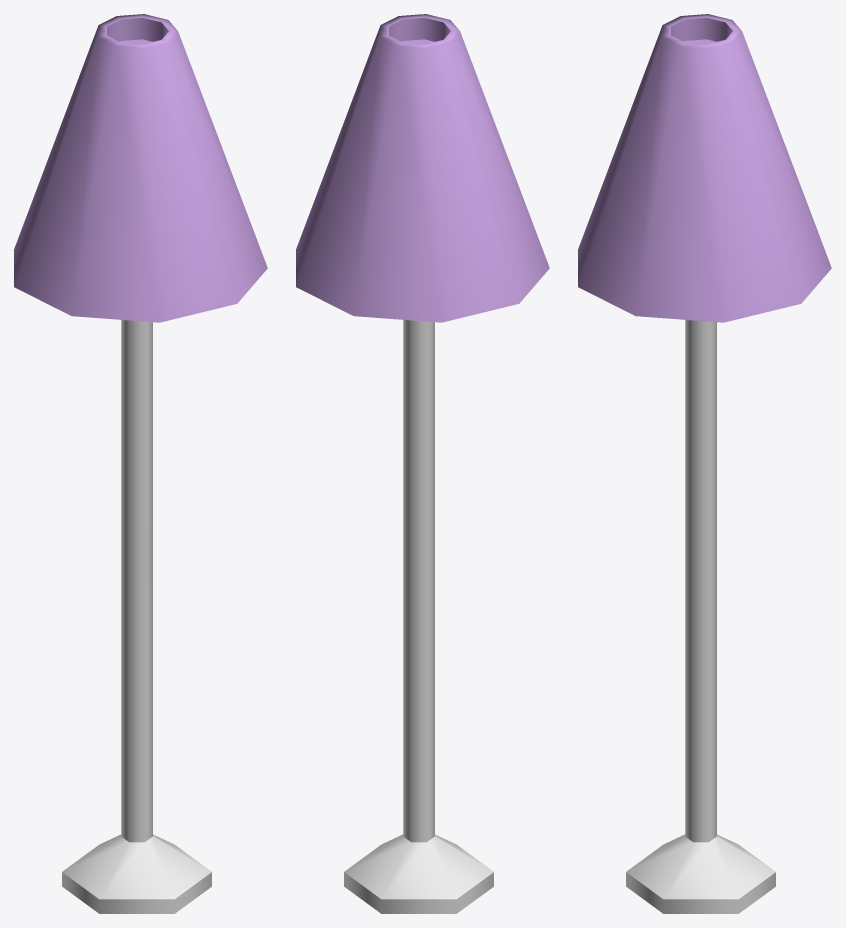
Rendered from lamp.fbx.
The picture shows the model from 3 angles, left to right: view 1: azimuth 30°, elevation 25°; view 2: azimuth 150°, elevation 25°; view 3: azimuth 270°, elevation 25°; orthographic projection.
Visible parts, largest first — view 1: Cylinder.015; view 2: Cylinder.015; view 3: Cylinder.015.
Boxes of the visible parts, x1=… form: Cylinder.015: x1=14, y1=14, x2=267, y2=913; Cylinder.015: x1=296, y1=14, x2=549, y2=913; Cylinder.015: x1=578, y1=14, x2=831, y2=913.
Size of the model in its own units: 114 by 419 by 113.
